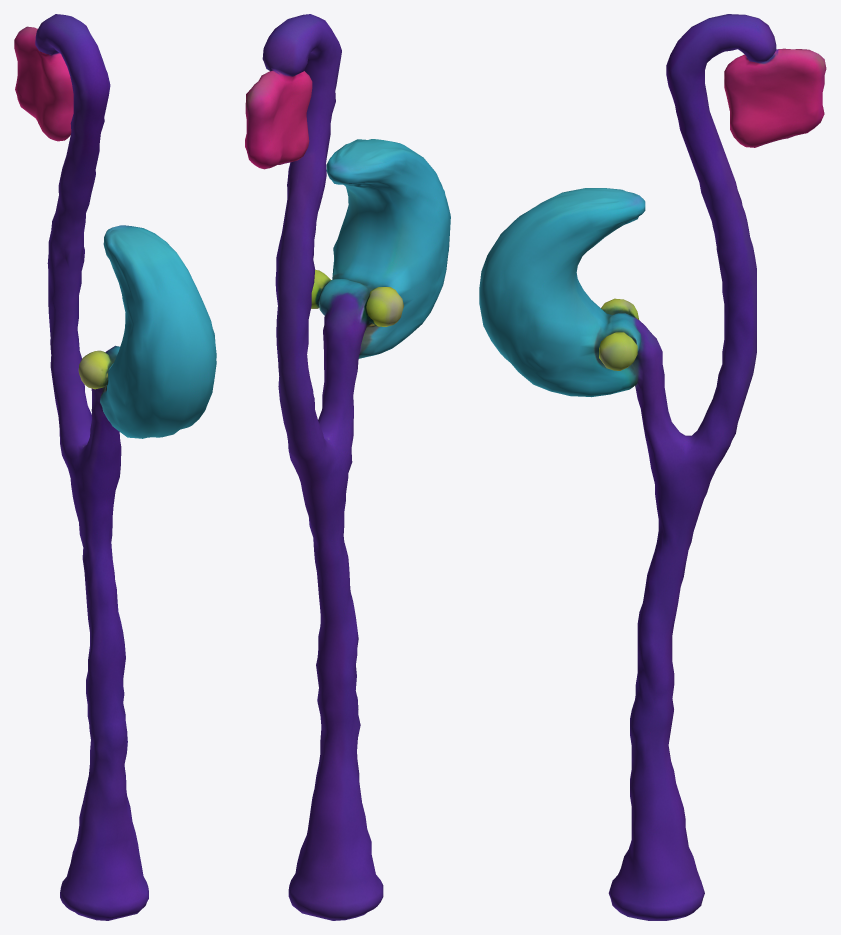
3 renders of one model, left to right at view 1: azimuth 30°, elevation 25°; view 2: azimuth 150°, elevation 25°; view 3: azimuth 270°, elevation 25°, orthographic. The views are drawn at different scales.
Parts seen in each view (by area): view 1: tripo_node_bc253155-7b66-46df-8b99-faa4e0c2d324; view 2: tripo_node_bc253155-7b66-46df-8b99-faa4e0c2d324; view 3: tripo_node_bc253155-7b66-46df-8b99-faa4e0c2d324.
Boxes of the visible parts, x1,y1,x2,y2 form: tripo_node_bc253155-7b66-46df-8b99-faa4e0c2d324: [14, 14, 216, 920]; tripo_node_bc253155-7b66-46df-8b99-faa4e0c2d324: [245, 14, 450, 920]; tripo_node_bc253155-7b66-46df-8b99-faa4e0c2d324: [479, 14, 826, 920].
Bounding box in the file's own units: 0.1194 × 1 × 0.3523.
Materials: 1 (1 with a texture image).
